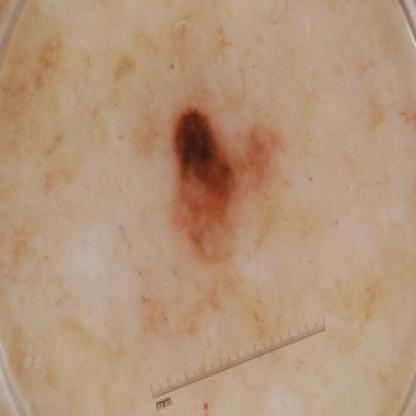malignant: (167, 106, 258, 251)
